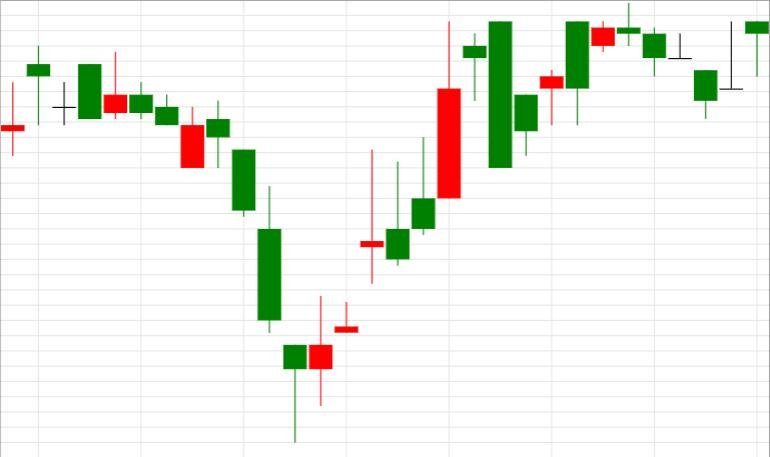hammer_rise: (130, 82, 307, 442)
